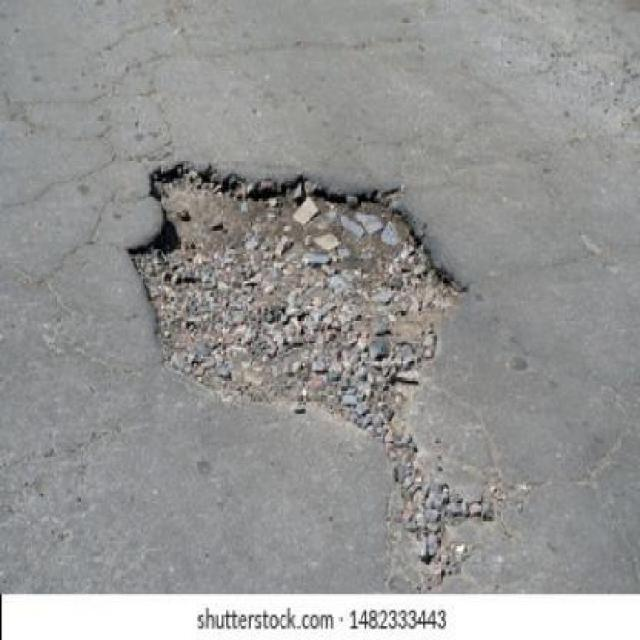Buraco: (119, 158, 475, 458)
